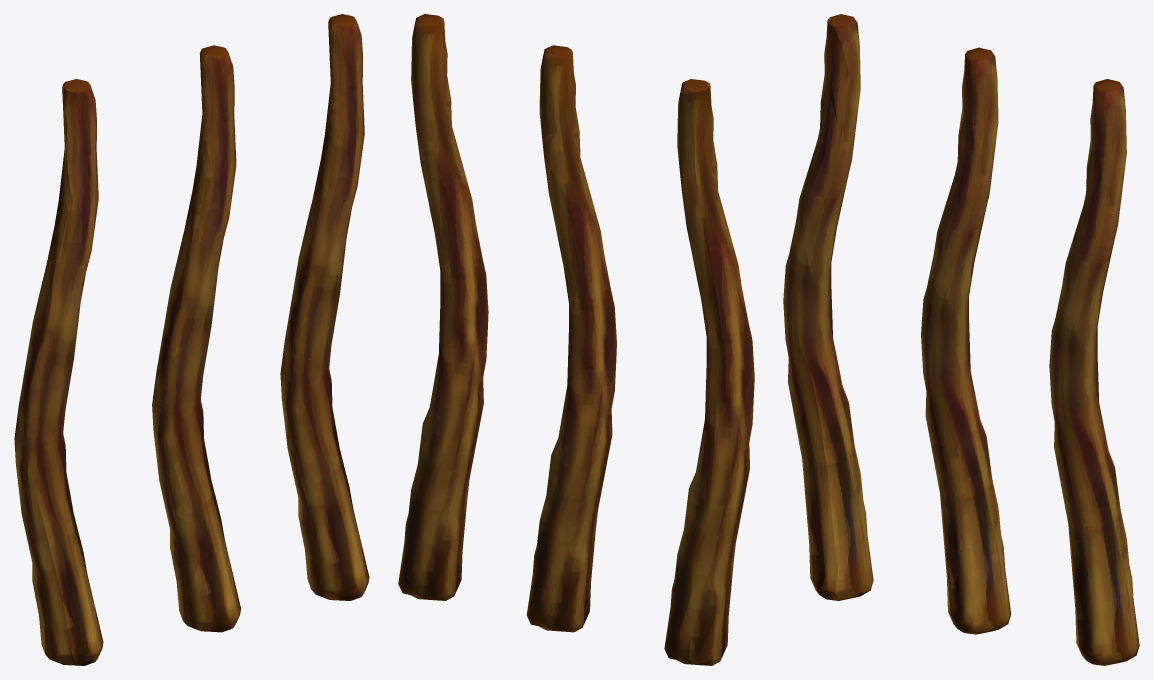
Rendered from Roots.fbx.
3 renders of one model, left to right at view 1: azimuth 30°, elevation 25°; view 2: azimuth 150°, elevation 25°; view 3: azimuth 330°, elevation 25°, orthographic.
Parts seen in each view (by area): view 1: Root01, Root01_cell.039, Root01_cell.030, Root01_cell.034, Root01_cell.004, Root01_cell.037, Root01_cell.007, Root01_cell.032, Root01_cell.024, Root01_cell.013, Root01_cell.018, Root01_cell.036 (+15 smaller); view 2: Root01, Root01_cell.035, Root01_cell.033, Root01_cell.032, Root01_cell.025, Root01_cell.014, Root01_cell.023, Root01_cell.005, Root01_cell.015, Root01_cell.037, Root01_cell.027, Root01_cell.021 (+11 smaller); view 3: Root01, Root01_cell.030, Root01_cell.039, Root01_cell.022, Root01_cell.034, Root01_cell.007, Root01_cell.032, Root01_cell.037, Root01_cell.036, Root01_cell.004, Root01_cell.005, Root01_cell.013 (+14 smaller).
Part boxes in pixels (x1=…): Root01: x1=14, y1=79, x2=103, y2=665; Root01_cell.039: x1=284, y1=337, x2=344, y2=491; Root01_cell.030: x1=306, y1=469, x2=369, y2=600; Root01_cell.034: x1=321, y1=86, x2=364, y2=202; Root01_cell.004: x1=175, y1=239, x2=211, y2=375; Root01_cell.037: x1=302, y1=153, x2=354, y2=268; Root01_cell.007: x1=163, y1=361, x2=205, y2=458; Root01_cell.032: x1=324, y1=14, x2=363, y2=135; Root01_cell.024: x1=199, y1=46, x2=230, y2=170; Root01_cell.013: x1=169, y1=457, x2=216, y2=521; Root01_cell.018: x1=168, y1=501, x2=226, y2=566; Root01_cell.036: x1=293, y1=284, x2=340, y2=365; Root01: x1=664, y1=79, x2=754, y2=665; Root01_cell.035: x1=420, y1=179, x2=480, y2=450; Root01_cell.033: x1=404, y1=442, x2=468, y2=600; Root01_cell.032: x1=411, y1=14, x2=450, y2=152; Root01_cell.025: x1=532, y1=504, x2=584, y2=591; Root01_cell.014: x1=557, y1=218, x2=601, y2=308; Root01_cell.023: x1=567, y1=305, x2=610, y2=382; Root01_cell.005: x1=539, y1=51, x2=581, y2=161; Root01_cell.015: x1=559, y1=409, x2=593, y2=499; Root01_cell.037: x1=420, y1=158, x2=480, y2=251; Root01_cell.027: x1=552, y1=527, x2=588, y2=632; Root01_cell.021: x1=567, y1=377, x2=606, y2=462; Root01: x1=783, y1=14, x2=873, y2=600; Root01_cell.030: x1=1069, y1=534, x2=1131, y2=665; Root01_cell.039: x1=1050, y1=389, x2=1113, y2=541; Root01_cell.022: x1=938, y1=196, x2=979, y2=355; Root01_cell.034: x1=1071, y1=151, x2=1122, y2=263; Root01_cell.007: x1=922, y1=354, x2=968, y2=450; Root01_cell.032: x1=1087, y1=79, x2=1126, y2=185; Root01_cell.037: x1=1057, y1=241, x2=1114, y2=324; Root01_cell.036: x1=1049, y1=341, x2=1094, y2=415; Root01_cell.004: x1=922, y1=228, x2=948, y2=360; Root01_cell.005: x1=955, y1=49, x2=998, y2=199; Root01_cell.013: x1=932, y1=441, x2=982, y2=515.
Size of the model in its own units: 1448 by 2312 by 248.
1 material, 1 textured.
